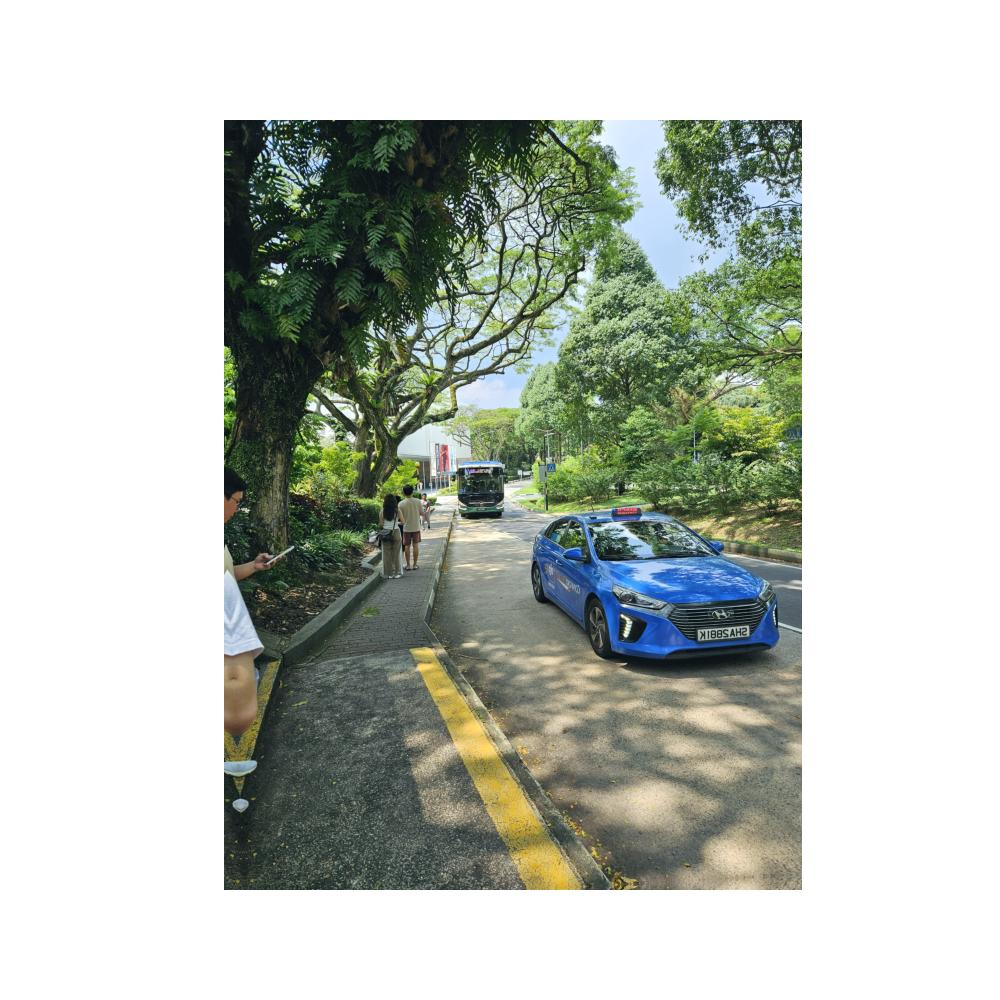bus: (451, 458, 510, 518)
